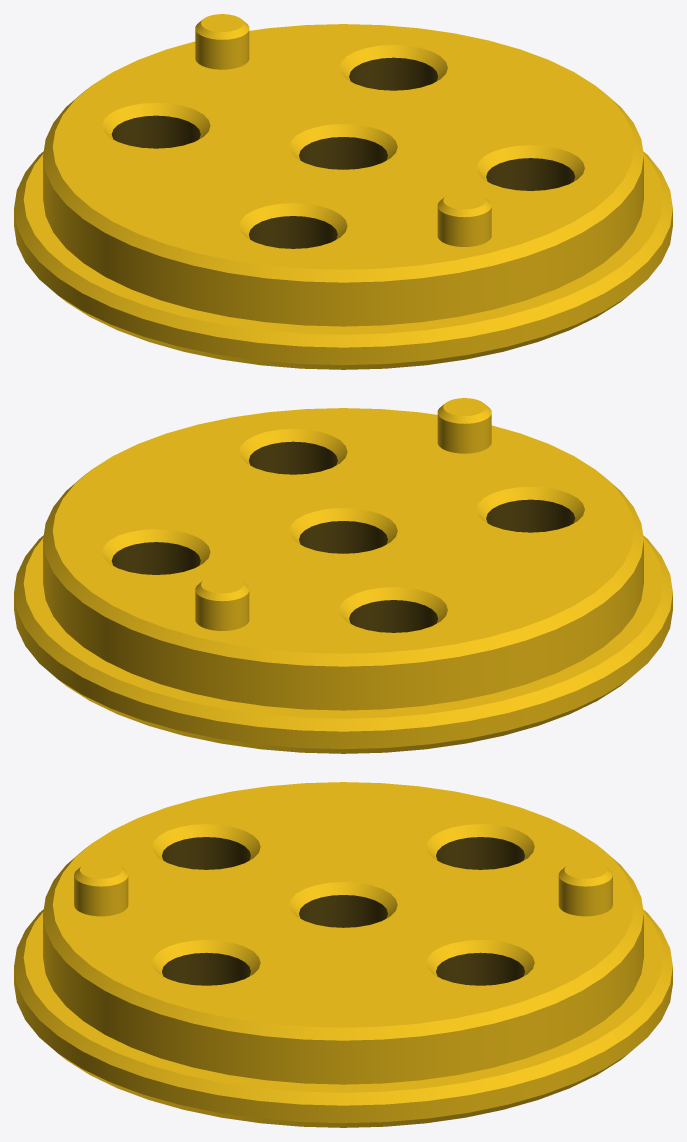
The model's file is rueda-pequena.glb.
3 renders of one model, top to bottom at view 1: azimuth 30°, elevation 25°; view 2: azimuth 150°, elevation 25°; view 3: azimuth 270°, elevation 25°, orthographic.
Parts seen in each view (by area): view 1: geometry_0, geometry_1; view 2: geometry_0, geometry_1; view 3: geometry_0, geometry_1.
Boxes of the visible parts, x1=… form: geometry_0: x1=14, y1=14, x2=672, y2=369; geometry_1: x1=111, y1=57, x2=575, y2=248; geometry_0: x1=14, y1=398, x2=672, y2=753; geometry_1: x1=111, y1=441, x2=575, y2=632; geometry_0: x1=14, y1=782, x2=672, y2=1127; geometry_1: x1=162, y1=837, x2=524, y2=985.
Size of the model in its own units: 0.034 by 0.007 by 0.034.
